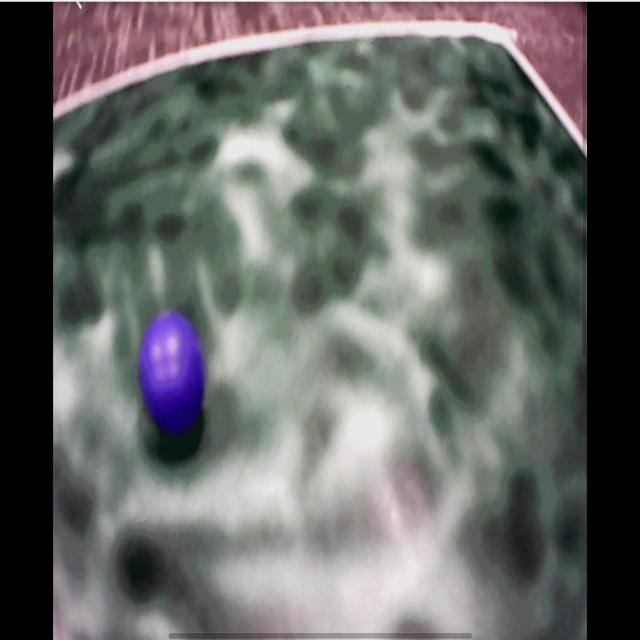ball: (141, 312, 206, 423)
